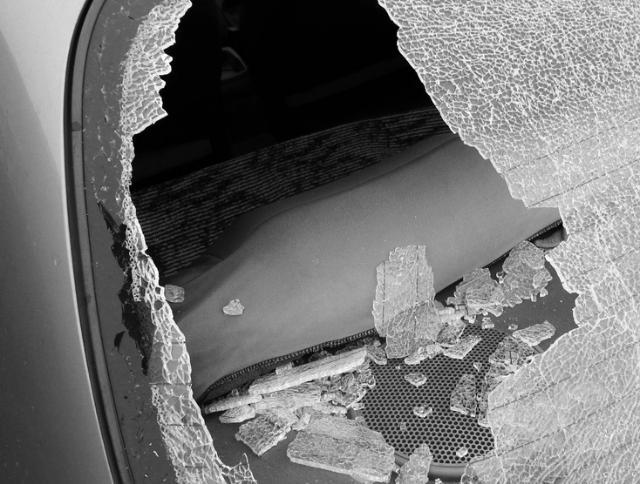Windshield: (96, 0, 640, 484)
